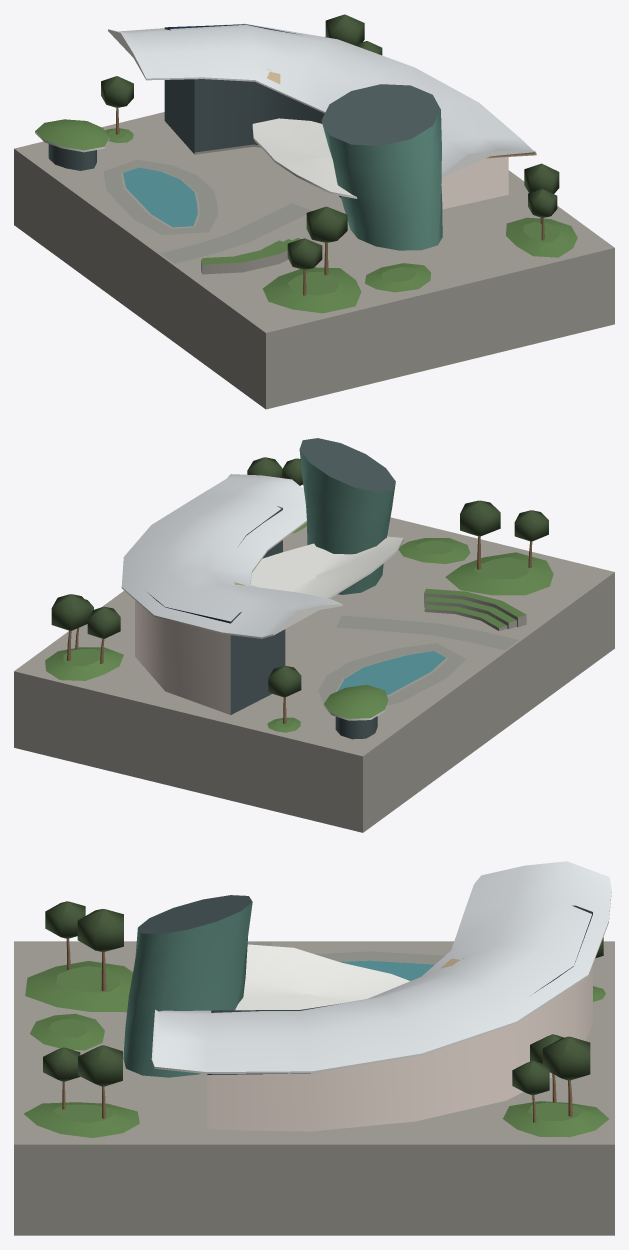
Rendered from far.fbx.
The picture shows the model from 3 angles, top to bottom: view 1: azimuth 30°, elevation 25°; view 2: azimuth 150°, elevation 25°; view 3: azimuth 270°, elevation 25°; orthographic projection. The views are drawn at different scales.
Parts seen in each view (by area): view 1: a1066/0/far; view 2: a1066/0/far; view 3: a1066/0/far.
Part boxes in pixels (x1=…): a1066/0/far: x1=14, y1=14, x2=614, y2=409; a1066/0/far: x1=14, y1=438, x2=614, y2=832; a1066/0/far: x1=14, y1=861, x2=614, y2=1235.
Bounding box in the file's own units: 48 × 27 × 60.
